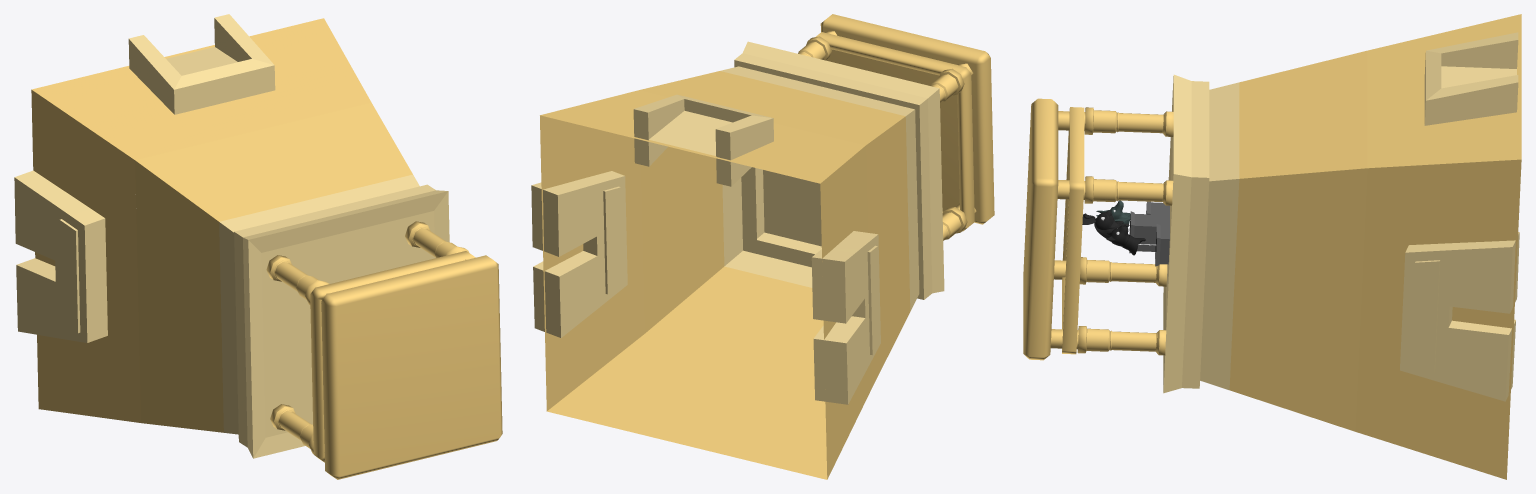
The model's file is nha 1.fbx.
3 renders of one model, left to right at view 1: azimuth 30°, elevation 25°; view 2: azimuth 150°, elevation 25°; view 3: azimuth 270°, elevation 25°, orthographic. The views are drawn at different scales.
Parts seen in each view (by area): view 1: TempleFloor04_Art, Platform_Art; view 2: TempleFloor04_Art, Platform_Art; view 3: TempleFloor04_Art, Platform_Art, Podium_Art, GodRa_Art.001, GodBastet_Art.
Part boxes in pixels (x1,y1,x2,y2): TempleFloor04_Art: (14, 14, 449, 458); Platform_Art: (266, 221, 502, 479); TempleFloor04_Art: (531, 41, 944, 479); Platform_Art: (798, 14, 994, 240); TempleFloor04_Art: (1163, 14, 1521, 479); Platform_Art: (1023, 98, 1173, 360); Podium_Art: (1129, 201, 1169, 266); GodRa_Art.001: (1082, 210, 1129, 238); GodBastet_Art: (1106, 224, 1155, 255).
Bounding box in the file's own units: 1197 × 1199 × 1548.
